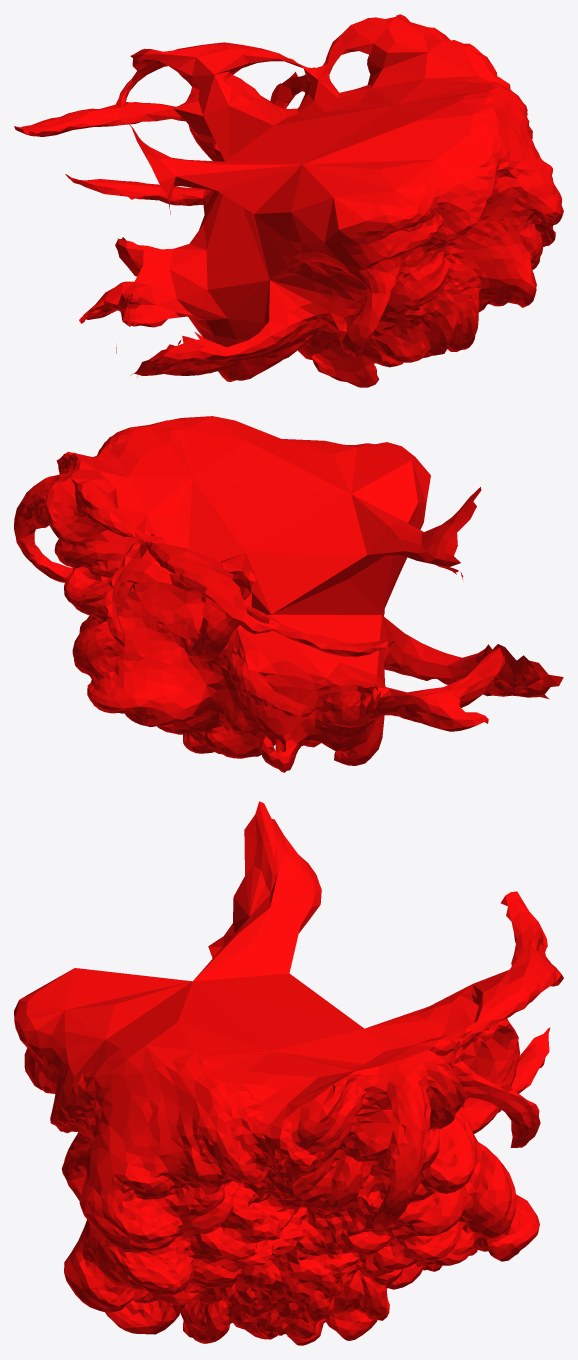
File: flower5.glb
3 views of the same model, one above another, from view 1: azimuth 30°, elevation 25°; view 2: azimuth 150°, elevation 25°; view 3: azimuth 270°, elevation 25° (orthographic). The views are drawn at different scales.
Size of the model in its own units: 160 by 105 by 131.
